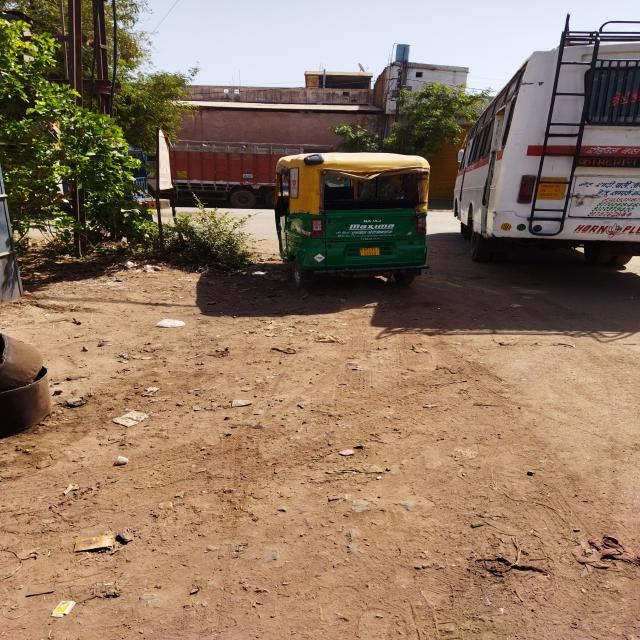Bus: (458, 54, 640, 286)
